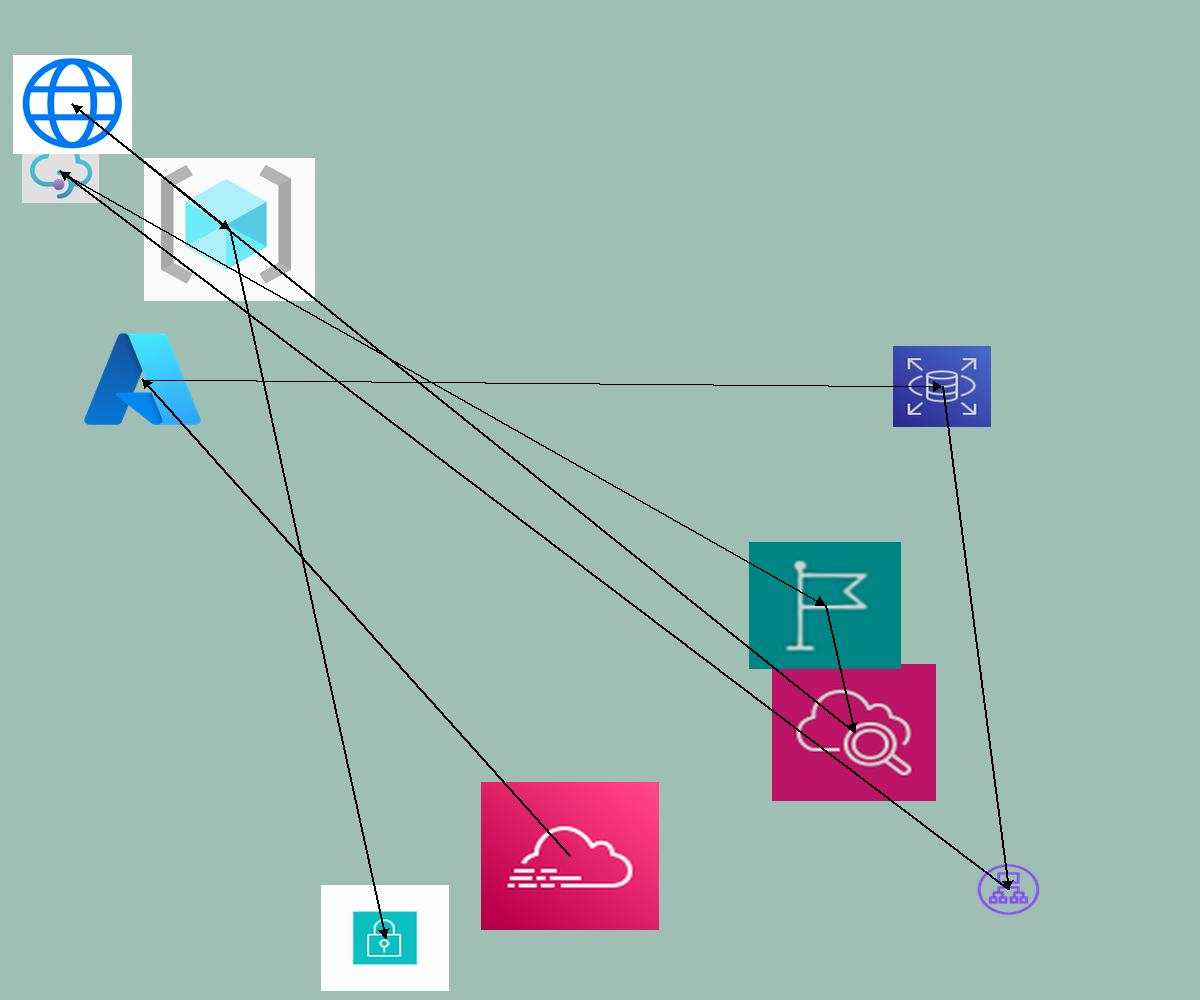AWS-CloudTrail: (481, 782, 659, 930)
AWS-CloudWatch: (772, 664, 936, 801)
AWS-Private-subnet: (321, 885, 449, 991)
AWS-RDS: (893, 346, 991, 427)
AWS-Region: (749, 542, 901, 669)
AWS-Res_Elastic-Load-Balancing_Application-Load-Balancer: (975, 862, 1042, 917)
Azure_api_gateway: (22, 139, 99, 203)
Azure_http: (13, 55, 132, 154)
Azure_resource_group: (144, 158, 315, 301)
Azure_services: (79, 326, 206, 432)
